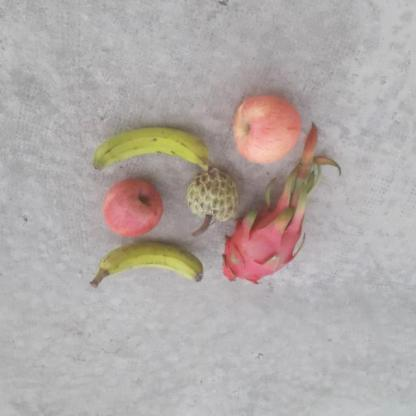annona: (183, 168, 243, 223)
apple: (233, 96, 304, 165), (105, 176, 172, 239)
banana: (86, 128, 216, 173), (90, 242, 206, 286)
pitaya: (221, 210, 304, 287)
